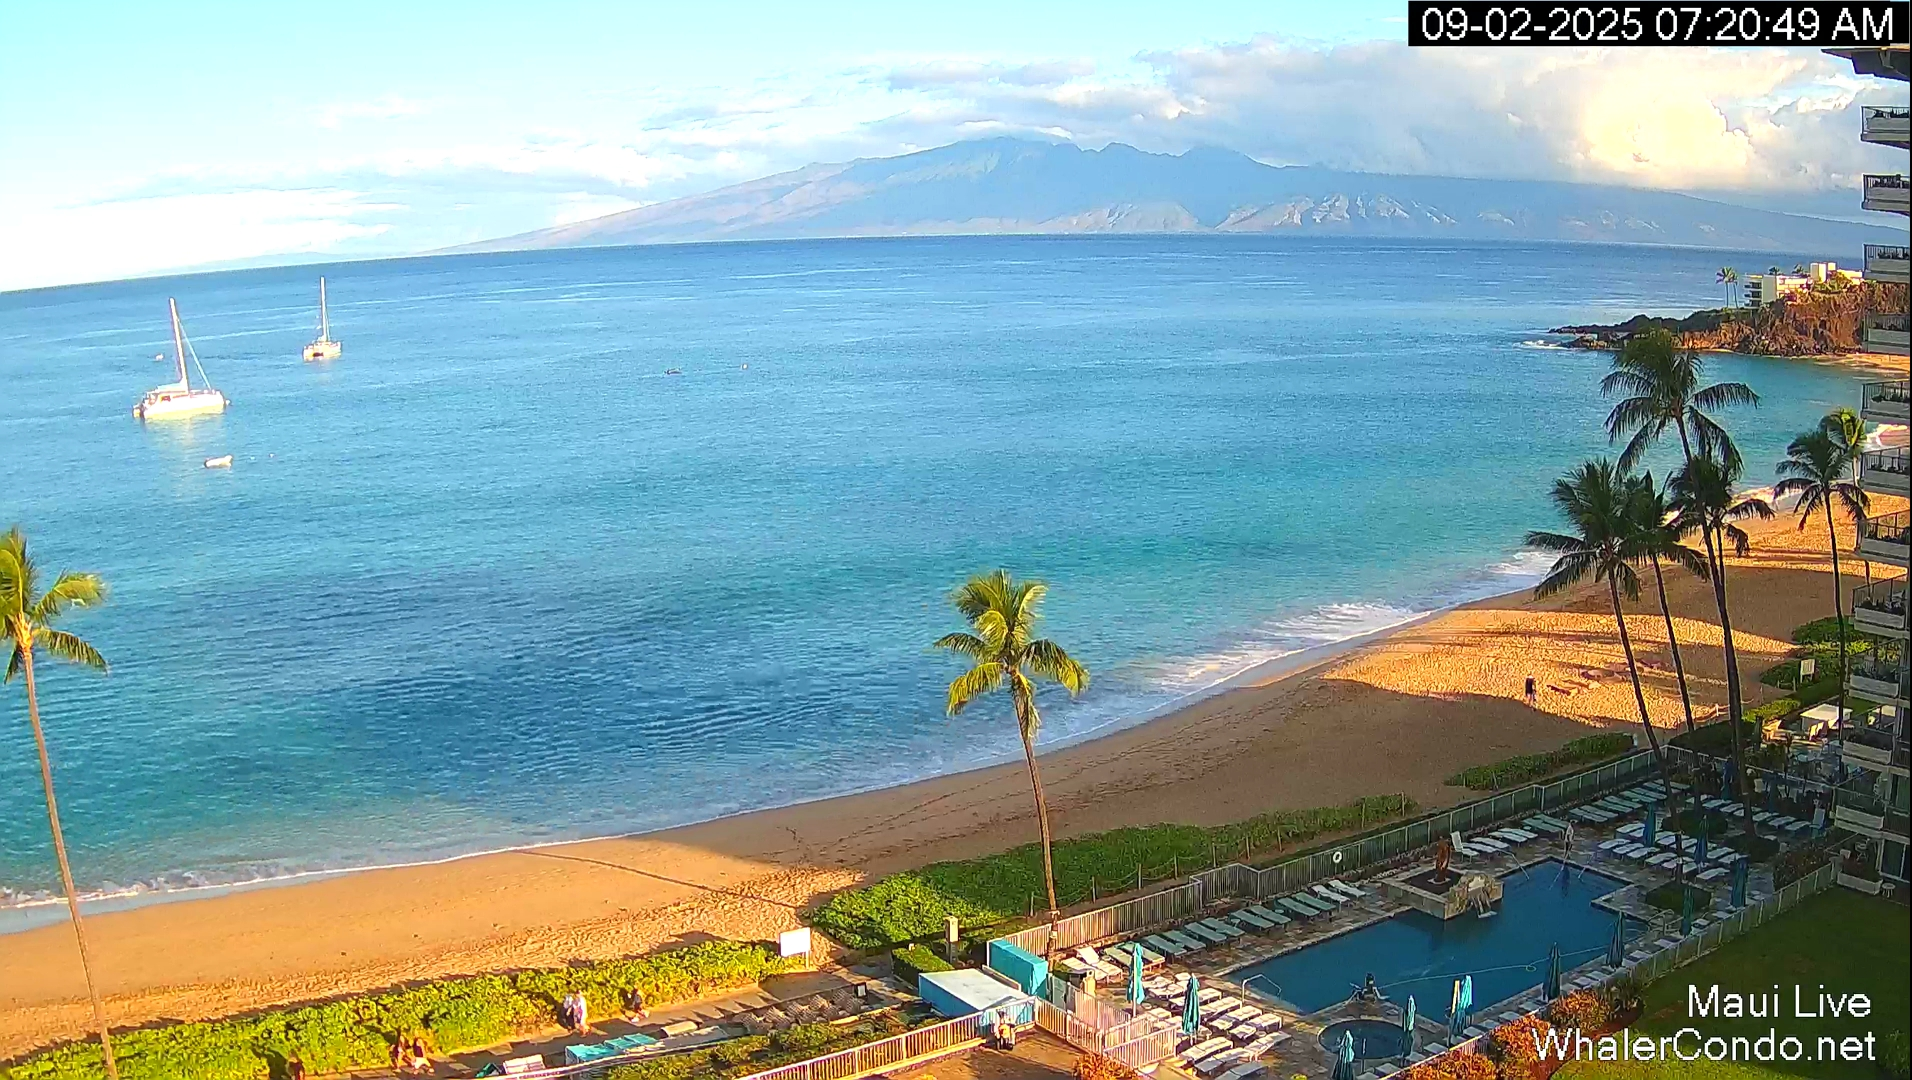boat: (132, 297, 227, 422), (1316, 972, 1414, 1065), (302, 275, 343, 362)
person: (561, 988, 591, 1038), (619, 987, 649, 1021)
